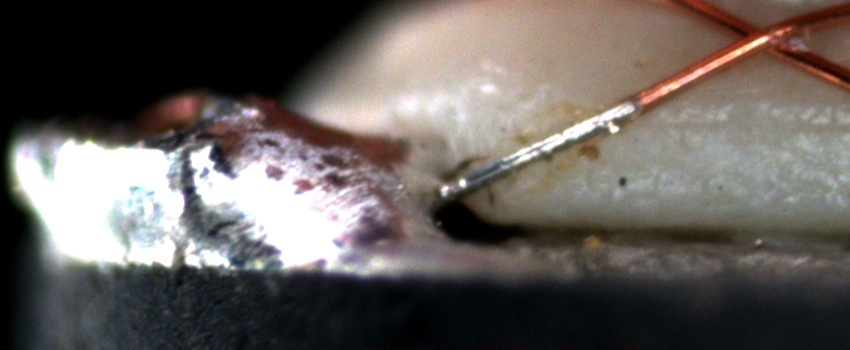CL: (712, 8, 812, 66)
DL: (635, 93, 850, 157)
TS: (438, 97, 639, 201)
